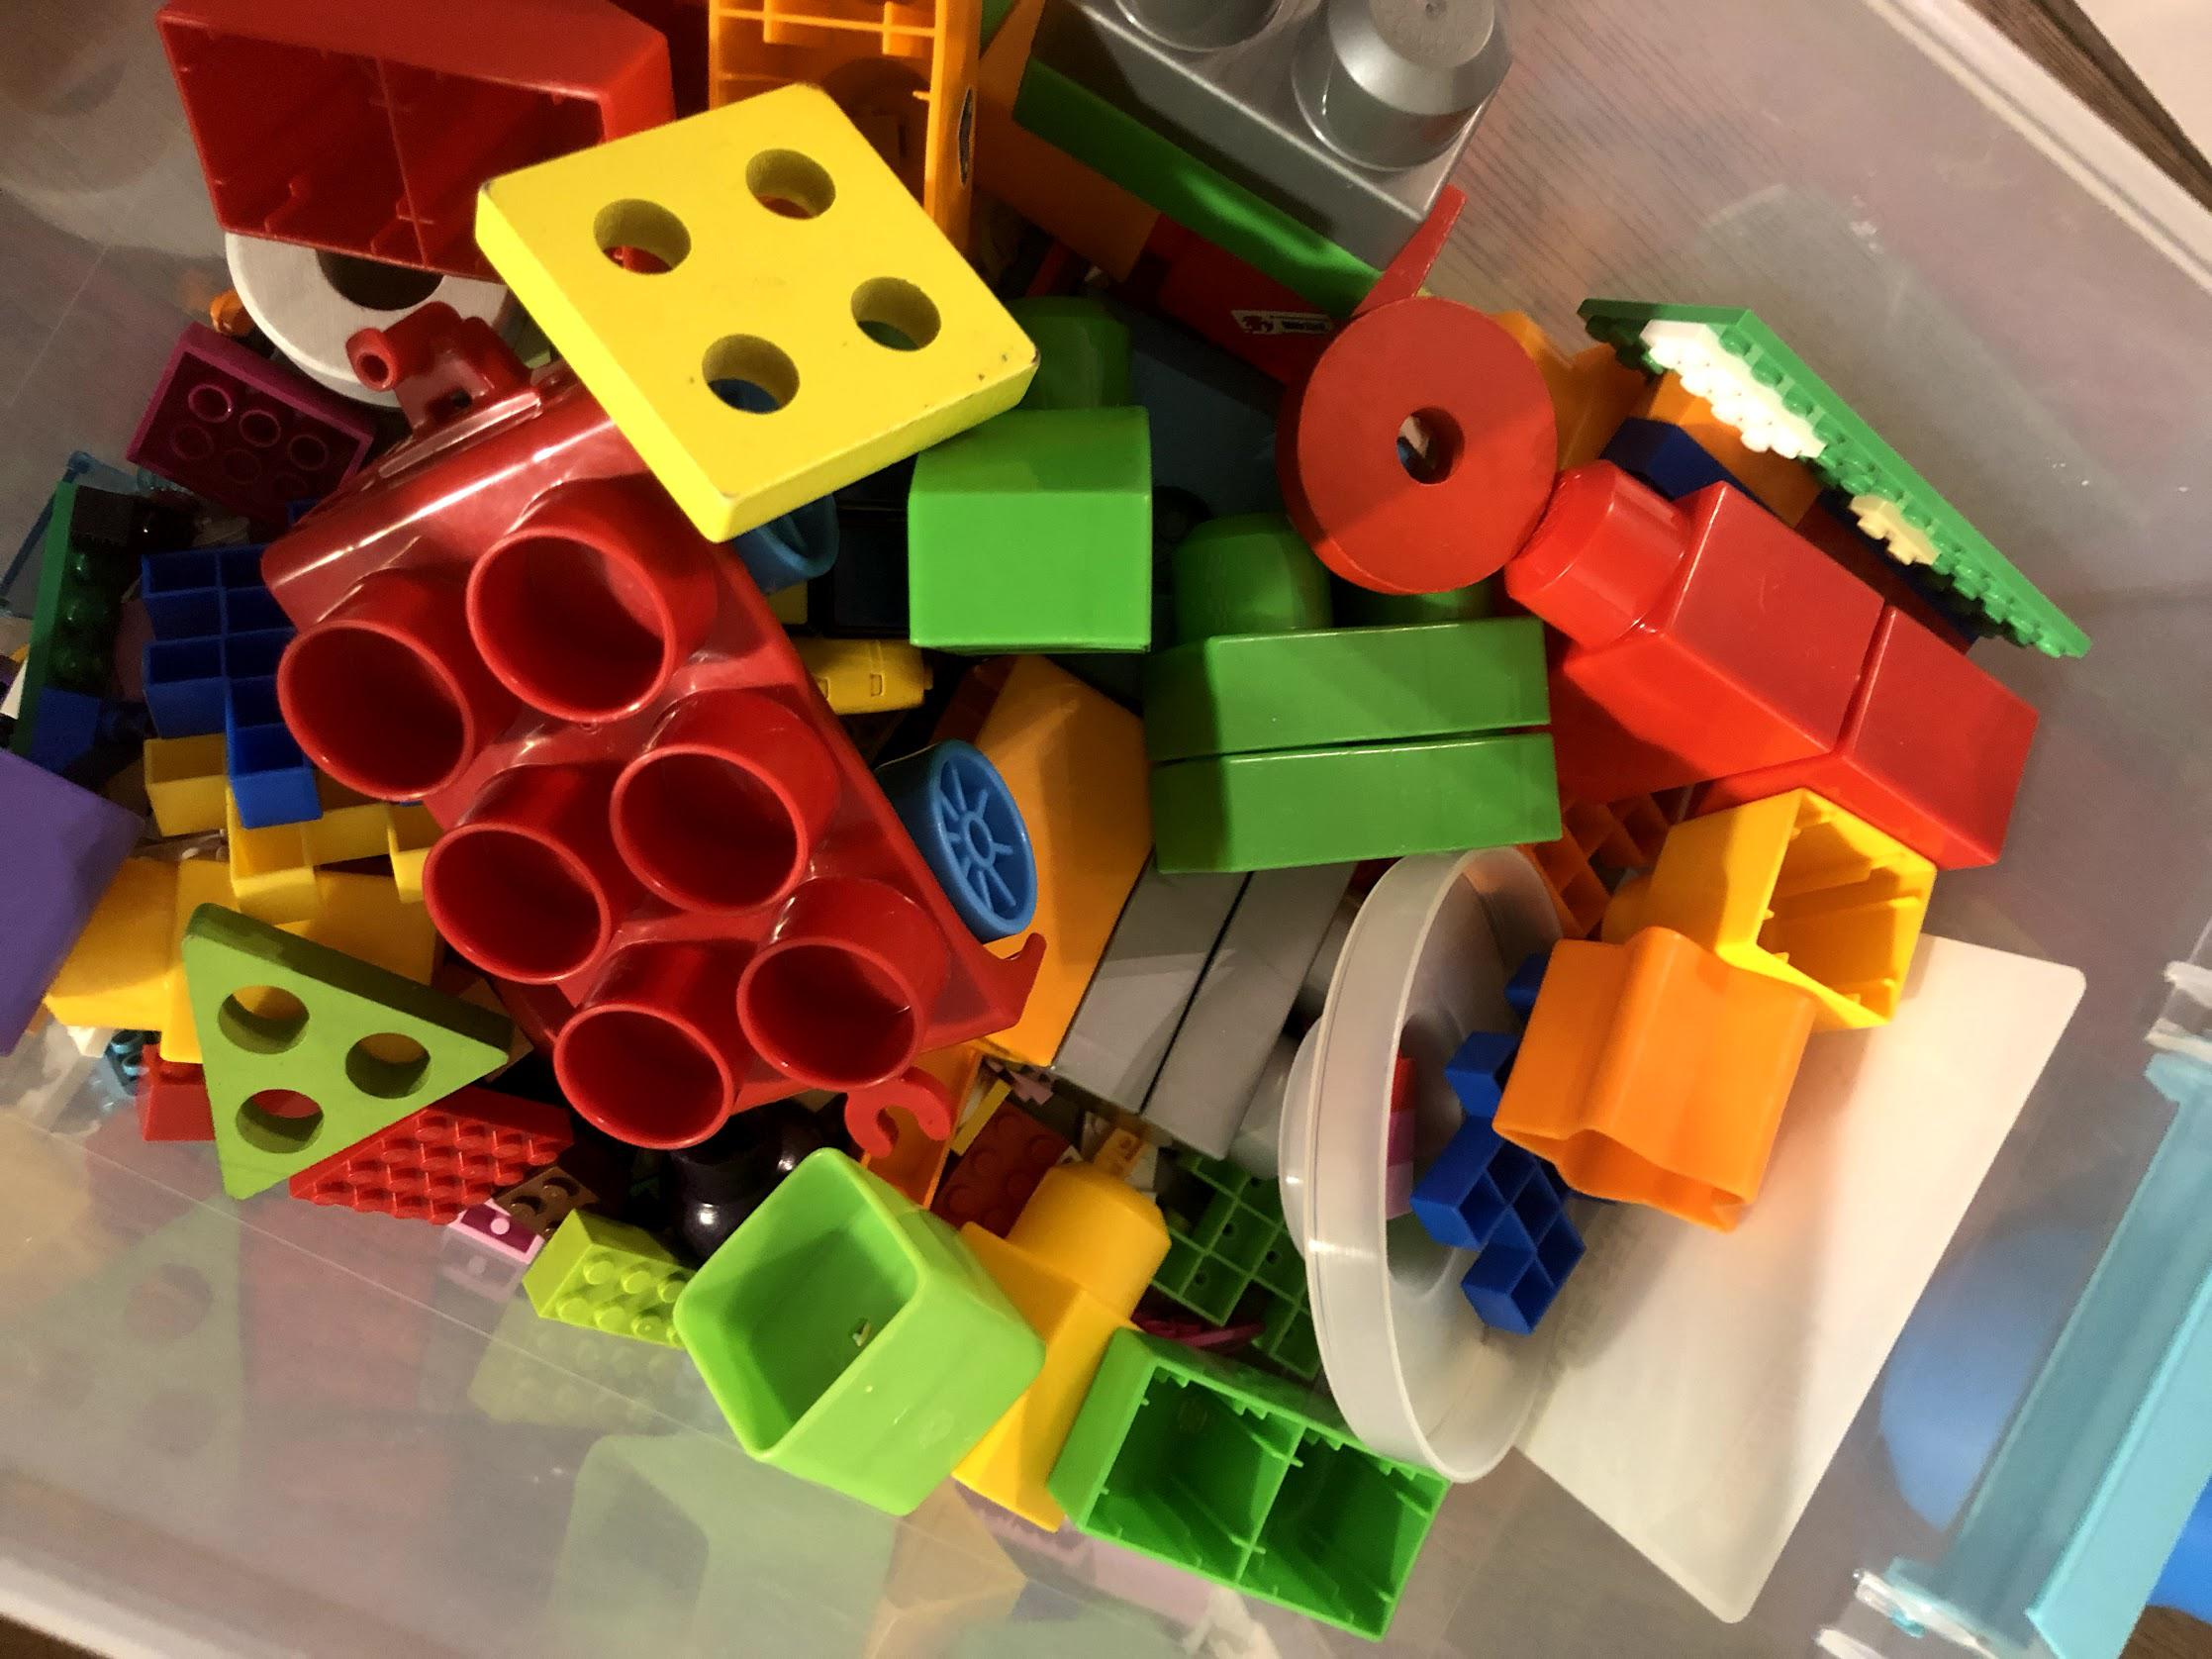Square: (482, 80, 1040, 535)
Triangle: (172, 913, 526, 1202)
